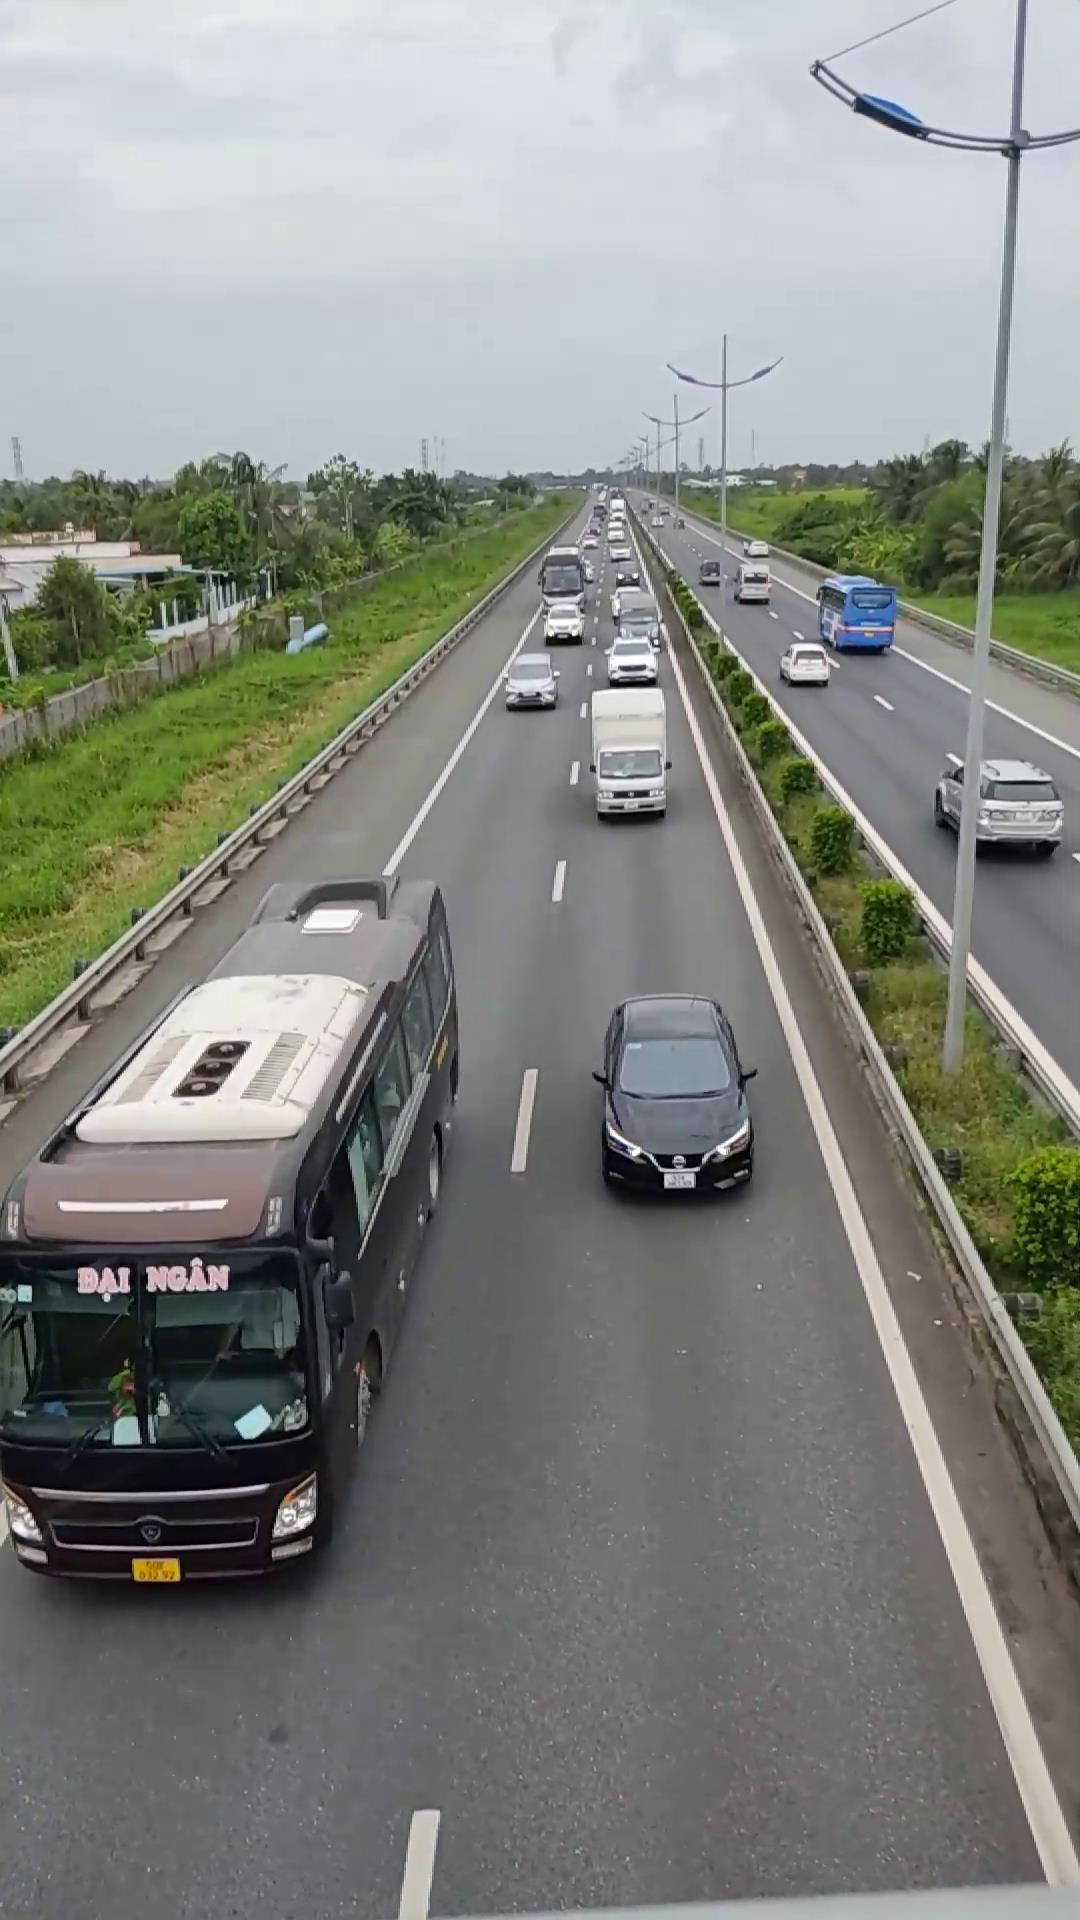bus: (0, 868, 463, 1583)
car: (591, 992, 758, 1199), (934, 754, 1065, 858), (575, 737, 672, 819)
